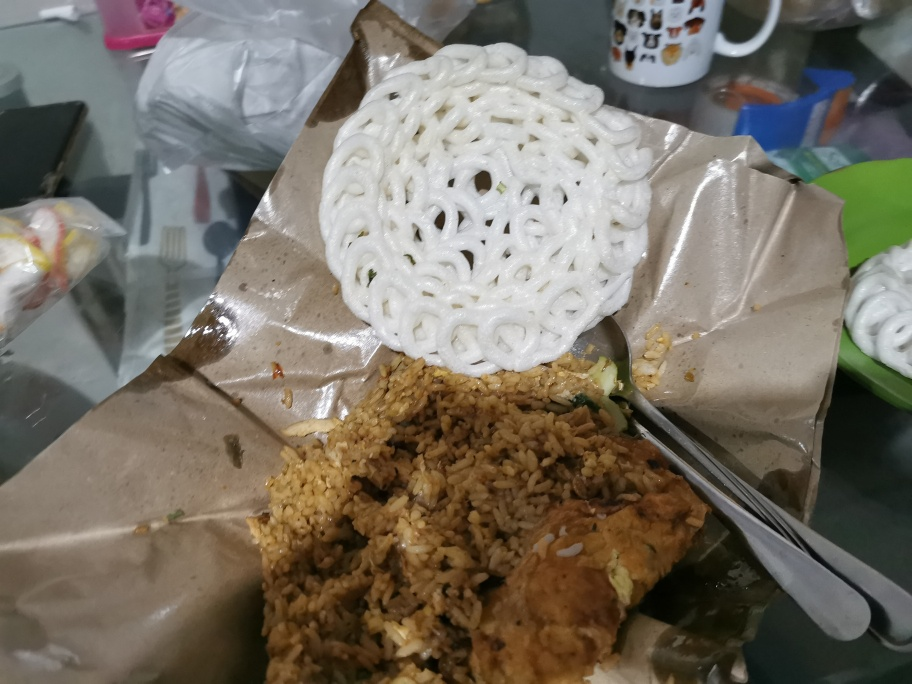kerupuk: (328, 40, 647, 359)
nasi goreng: (257, 364, 707, 683)
